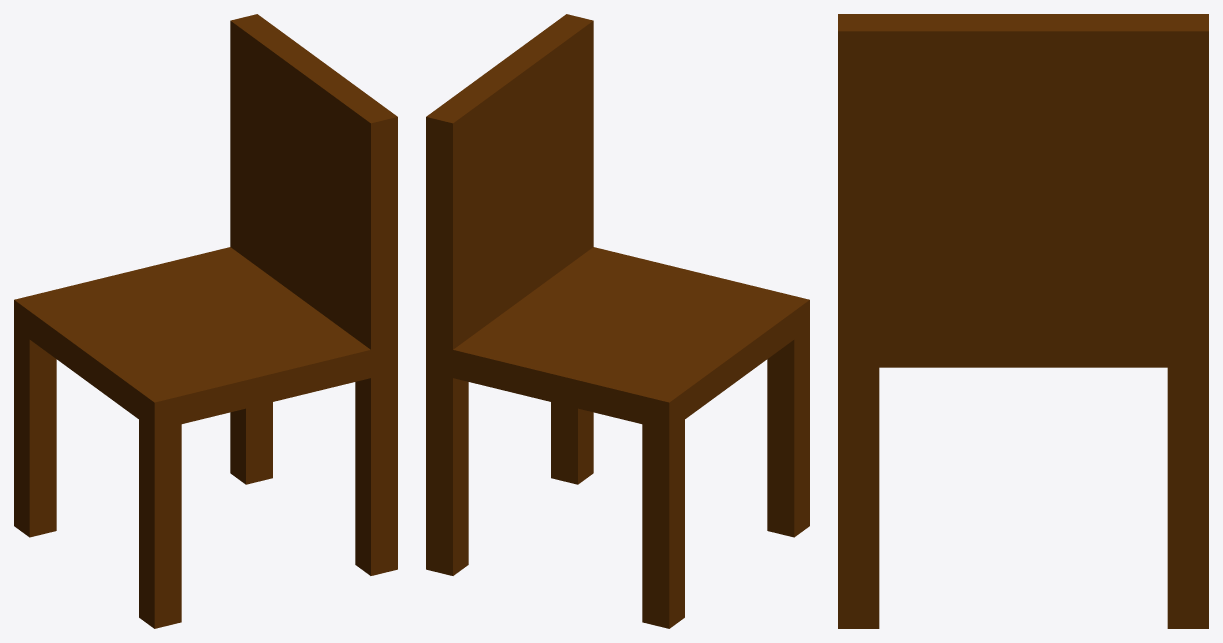
File: Chair2.obj
3 renders of one model, left to right at view 1: azimuth 30°, elevation 25°; view 2: azimuth 150°, elevation 25°; view 3: azimuth 270°, elevation 25°, orthographic. The views are drawn at different scales.
Size of the model in its own units: 0.9 by 1.6 by 0.9.
Materials: 1 (1 with a texture image).
